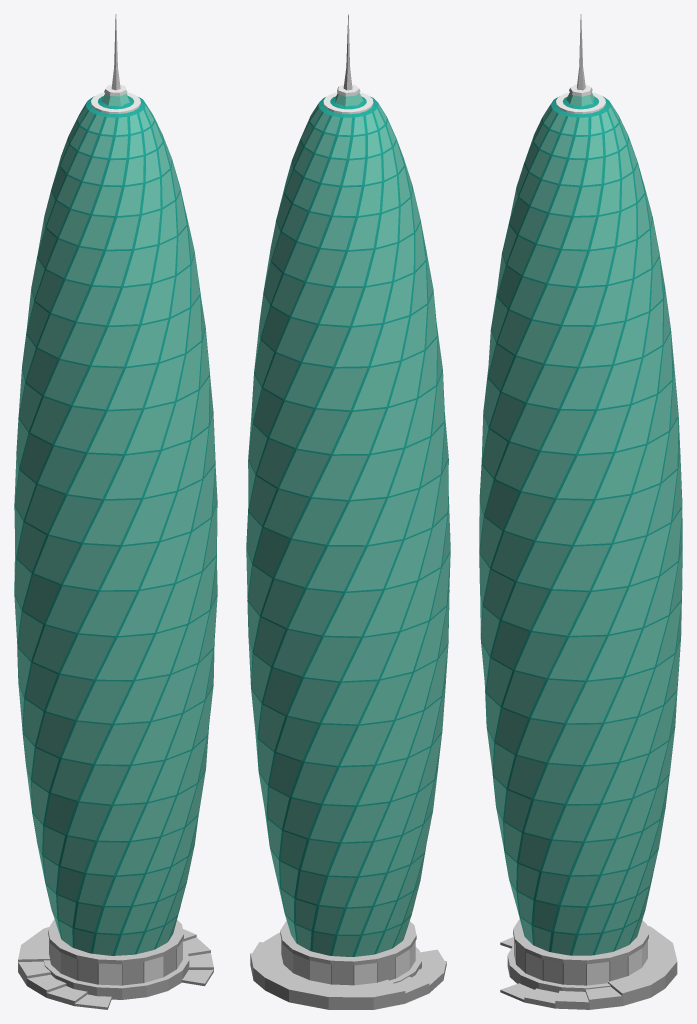
The model's file is building_2_2_2_2.glb.
3 renders of one model, left to right at view 1: azimuth 30°, elevation 25°; view 2: azimuth 150°, elevation 25°; view 3: azimuth 270°, elevation 25°, orthographic.
Parts seen in each view (by area): view 1: building_1_2_2_11; view 2: building_1_2_2_11; view 3: building_1_2_2_11.
Part boxes in pixels (bbox=[...]): building_1_2_2_11: bbox=[14, 14, 217, 1009]; building_1_2_2_11: bbox=[246, 14, 450, 1009]; building_1_2_2_11: bbox=[479, 14, 682, 1009].
Size of the model in its own units: 27.62 by 143 by 27.62.
Materials: 1 (1 with a texture image).
